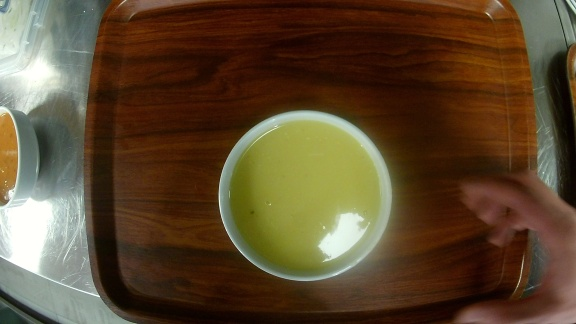mercimek: (213, 108, 394, 284)
